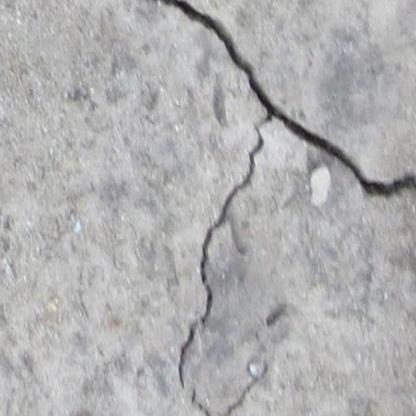Cracks: (126, 0, 416, 416)
